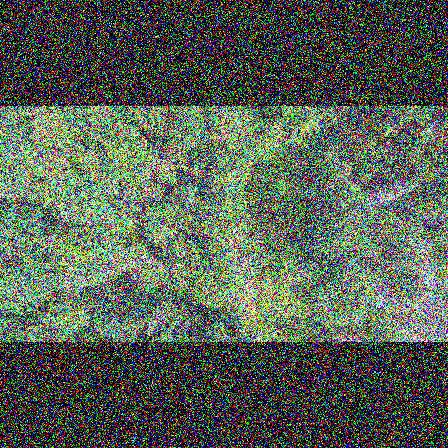Dead: (372, 288, 425, 314), (393, 318, 441, 342), (65, 267, 95, 296), (406, 290, 448, 308), (139, 182, 172, 204), (410, 274, 446, 291), (409, 258, 446, 273), (382, 181, 421, 194), (366, 191, 399, 205), (422, 119, 437, 136)
